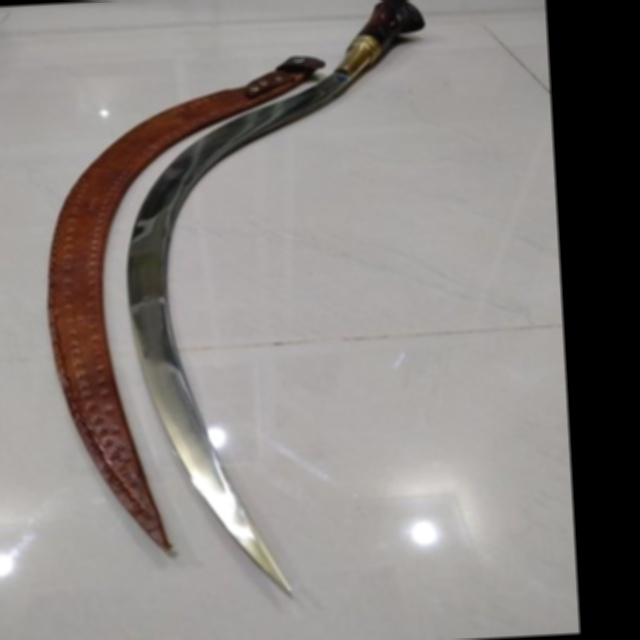Sharp-Object: (104, 0, 458, 614)
